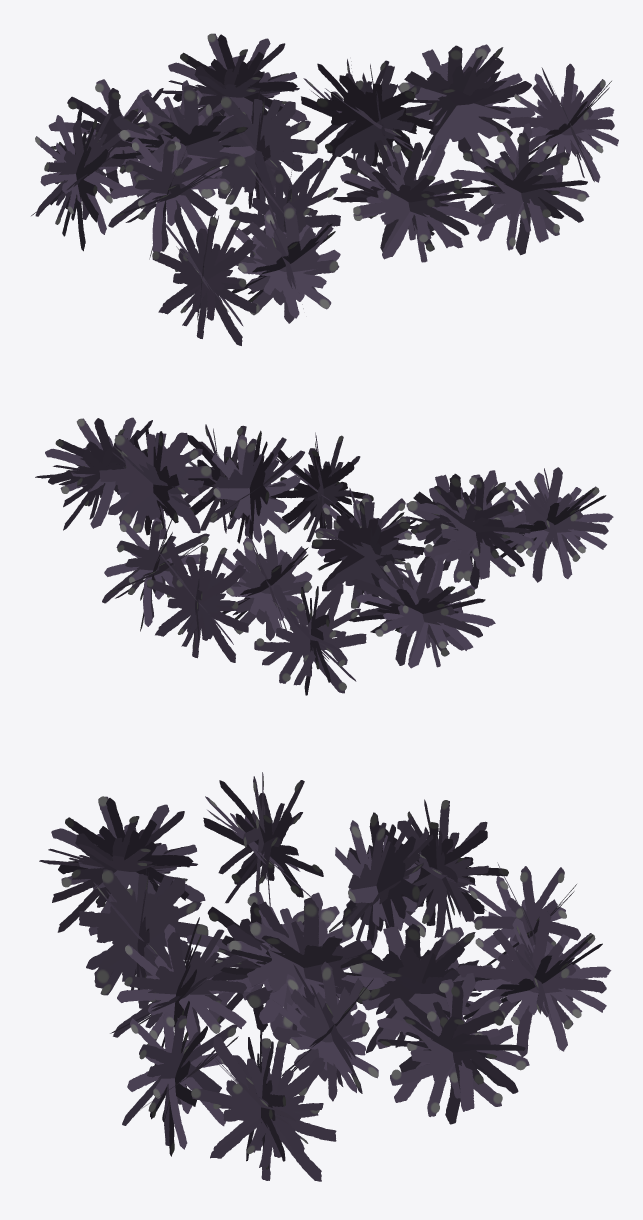
The model's file is ST Spiky Plant Polycule Wide.fbx.
3 views of the same model, one above another, from view 1: azimuth 30°, elevation 25°; view 2: azimuth 150°, elevation 25°; view 3: azimuth 270°, elevation 25° (orthographic). The views are drawn at different scales.
Visible parts, largest first — view 1: Spiky Plant Polycule Wide; view 2: Spiky Plant Polycule Wide; view 3: Spiky Plant Polycule Wide.
Boxes of the visible parts, box(x1,y1,x2,y2) form: Spiky Plant Polycule Wide: box(31, 33, 618, 345); Spiky Plant Polycule Wide: box(35, 417, 613, 695); Spiky Plant Polycule Wide: box(39, 772, 611, 1181).
Size of the model in its own units: 976 by 331 by 782.
